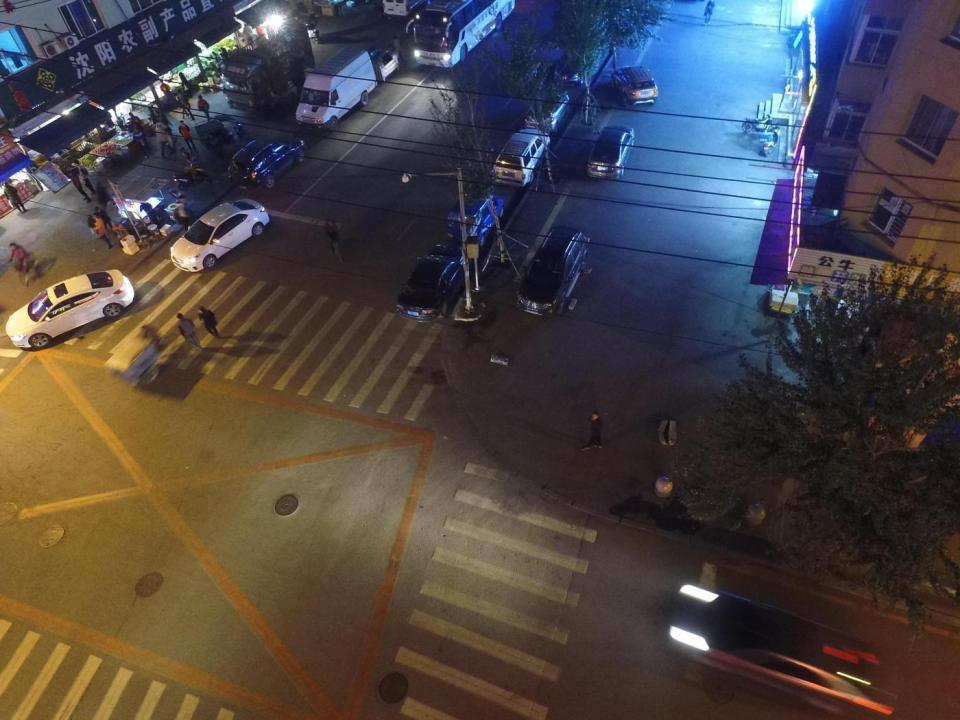bus: (410, 0, 514, 68)
car: (668, 590, 895, 718), (5, 268, 133, 348), (169, 198, 276, 274), (518, 224, 590, 318), (395, 246, 470, 323), (230, 139, 308, 187), (490, 130, 549, 187), (451, 193, 501, 246), (586, 124, 632, 179), (554, 36, 596, 89), (612, 63, 657, 107), (523, 91, 567, 133), (371, 49, 400, 80)
truck: (223, 22, 308, 112)
van: (299, 49, 374, 130), (384, 1, 423, 18)
